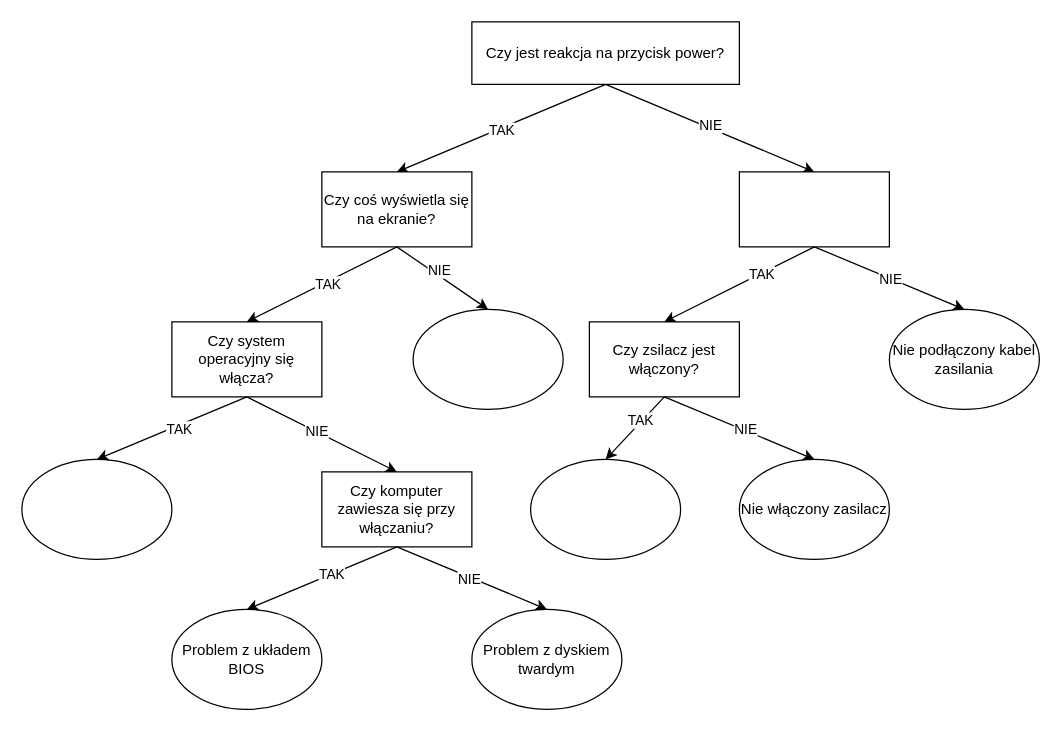
Image size: 1061x731. Some labels were removed from this diagram. The shapes that lost their labels are listed below. From the top down, each one's centre as x and y in pixels, then its label:
(x=813, y=209): Czy komputer jest podłączony do prądu?
(x=487, y=358): Prawdopodobnie problem z pamięcią RAM
(x=96, y=508): Nie wykryto problemu
(x=605, y=508): Problem z front panelem
